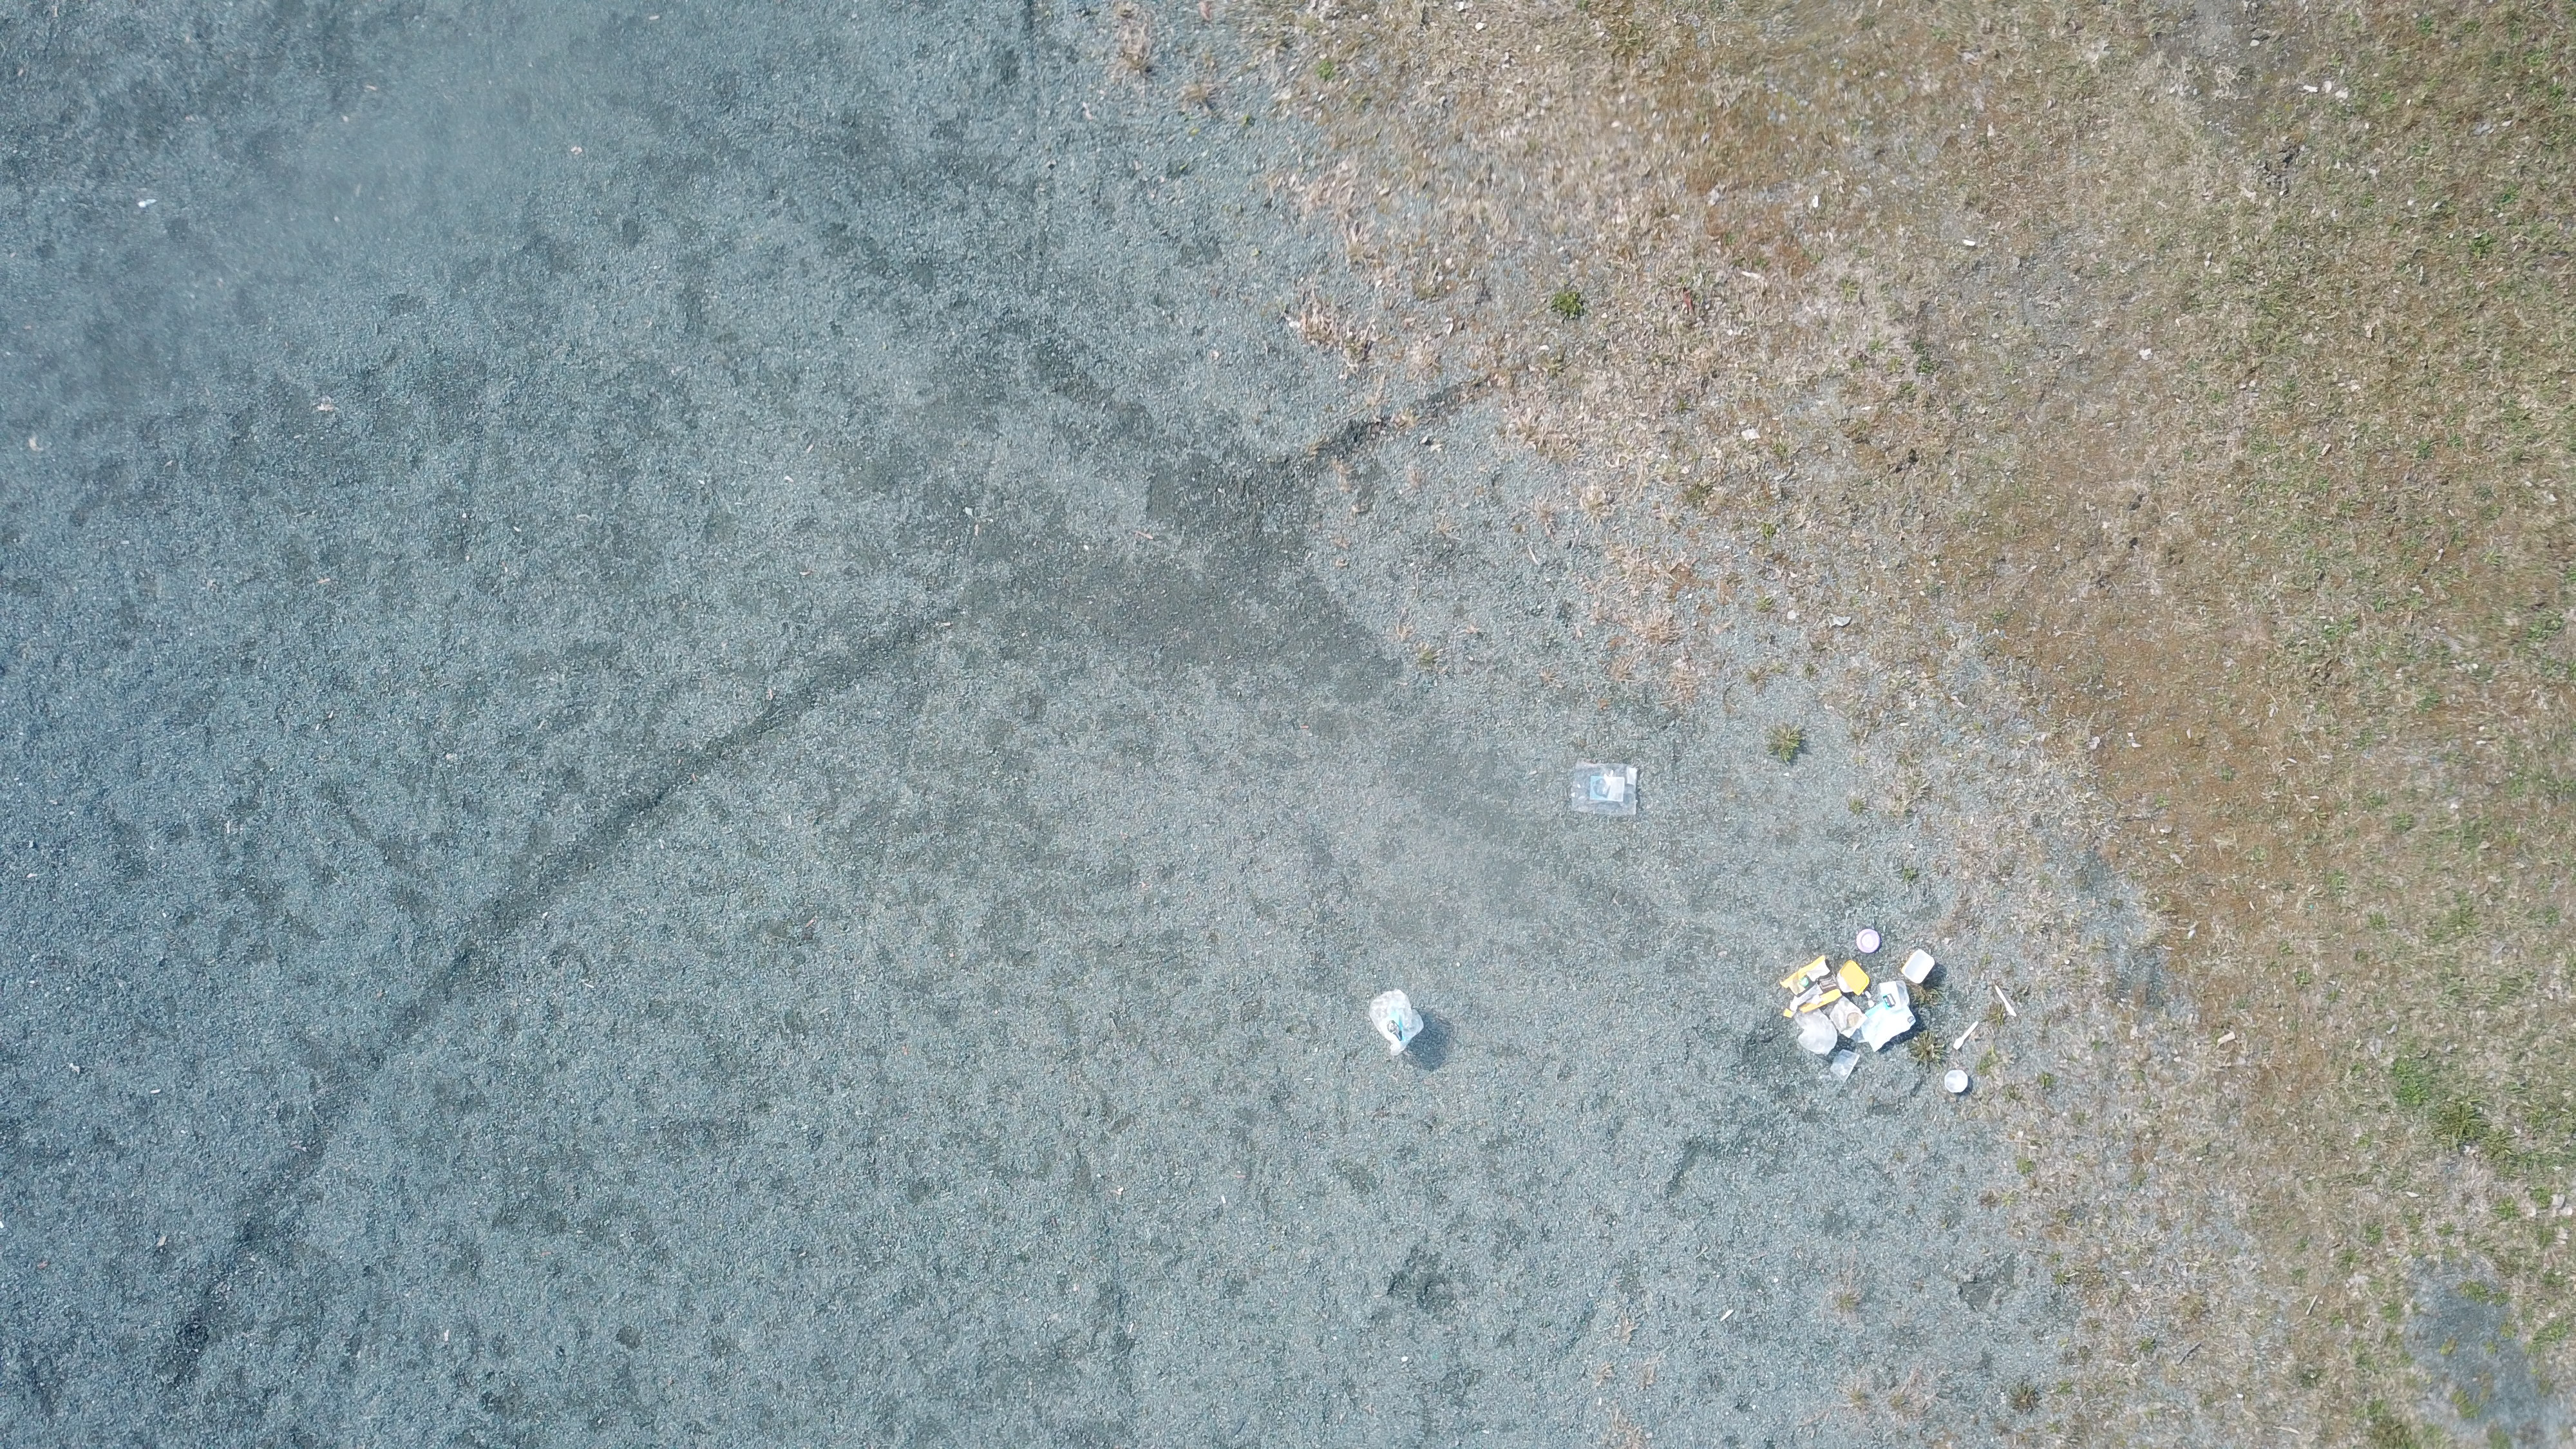Plastic: (1780, 954, 1842, 1021), (1569, 761, 1640, 817), (1369, 987, 1426, 1058), (1856, 1000, 1916, 1053), (1792, 1007, 1838, 1058), (1831, 996, 1868, 1042), (1900, 948, 1937, 985), (1836, 959, 1870, 998), (1875, 977, 1916, 1008), (1829, 1051, 1859, 1083), (1994, 985, 2020, 1019), (1953, 1021, 1982, 1051), (1856, 929, 1881, 955), (1944, 1069, 1969, 1095)
